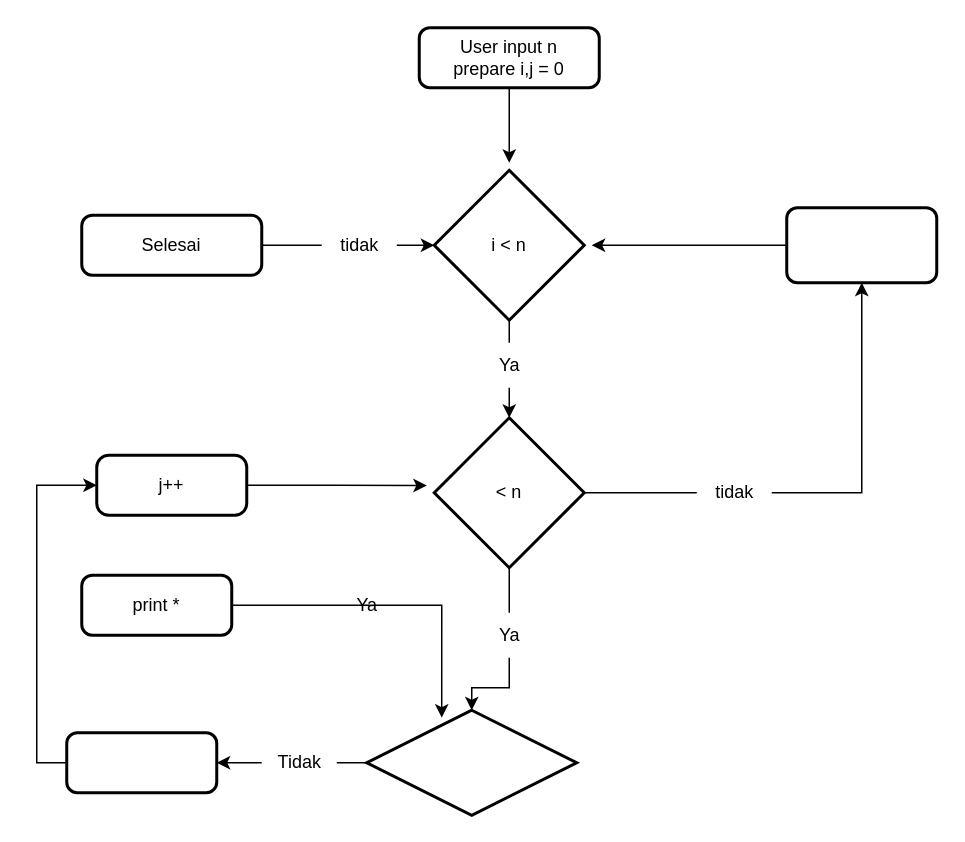
The diagram is 965 pixels wide and 842 high, and some of its shapes have lost their labels. Here are the shapes that lost their labels. From the top down, the box of each, then its label:
(784, 206, 938, 284): i ++ j = 0 print '\'
(64, 730, 218, 794): print "\b"
(364, 708, 578, 816): i == j or i + j == n -1
